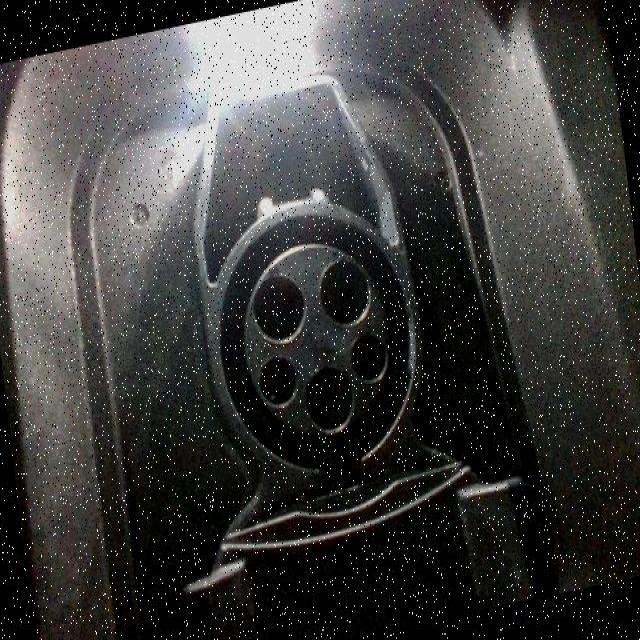Type 1: (220, 228, 420, 450)
